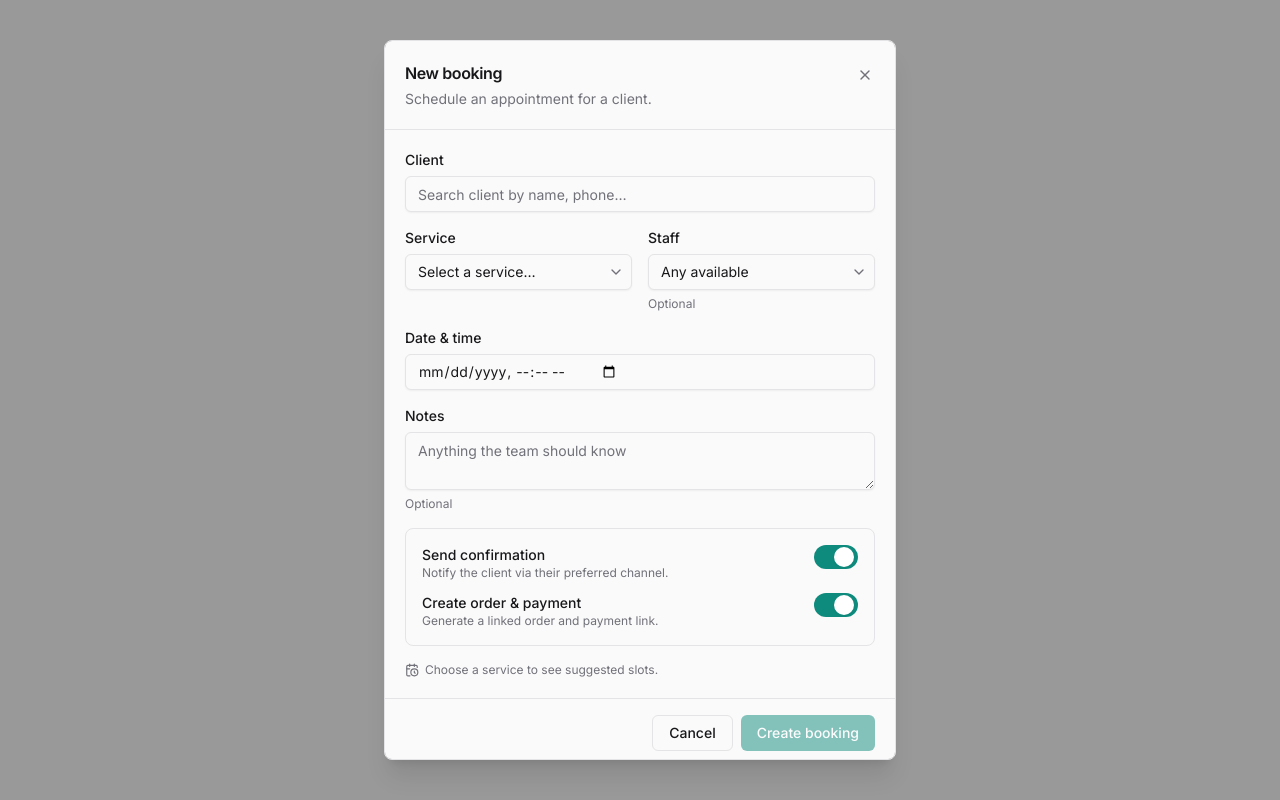
Test: CreateBookingModal › searches clients only once something is typed
Expected: the text "Asha Rao" is not shown
Type "As" into the field with placeholder "Search client by name, phone…".
click(640, 194); type("As")  # box [405,176,875,212]
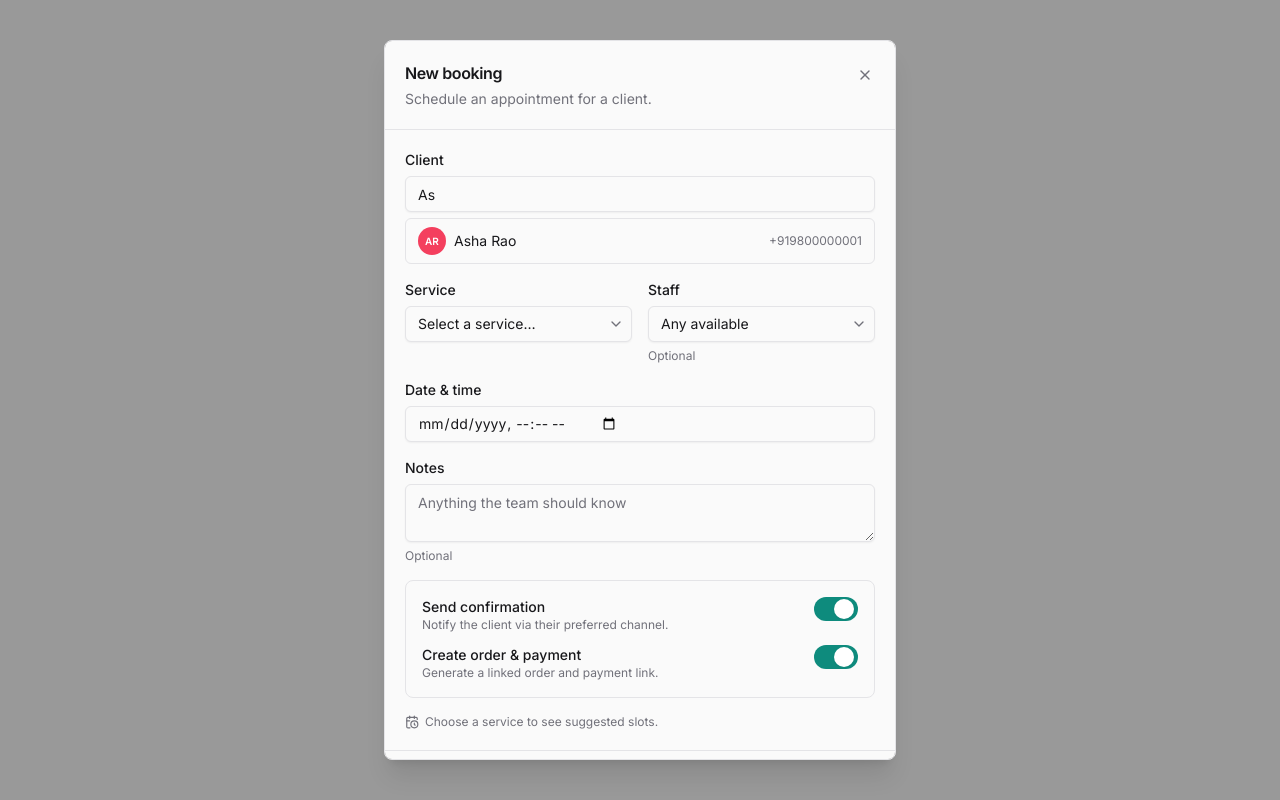
Expected: the text "Asha Rao" is shown, [454,231,516,251]
